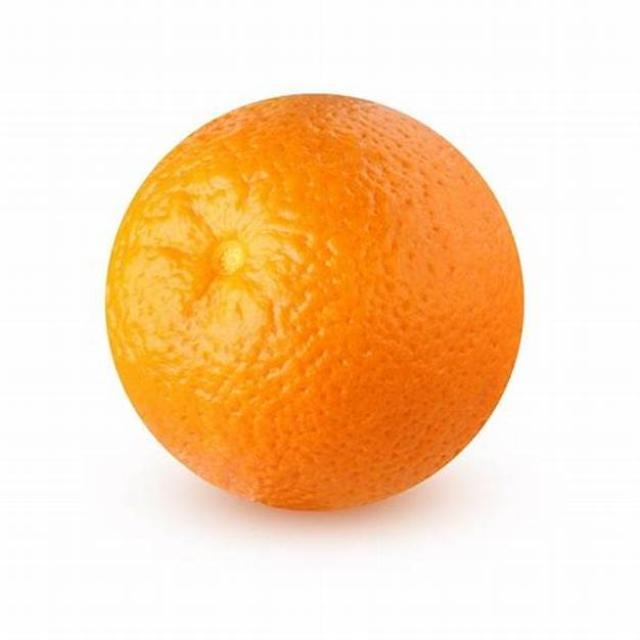Orange: (106, 95, 520, 510)
